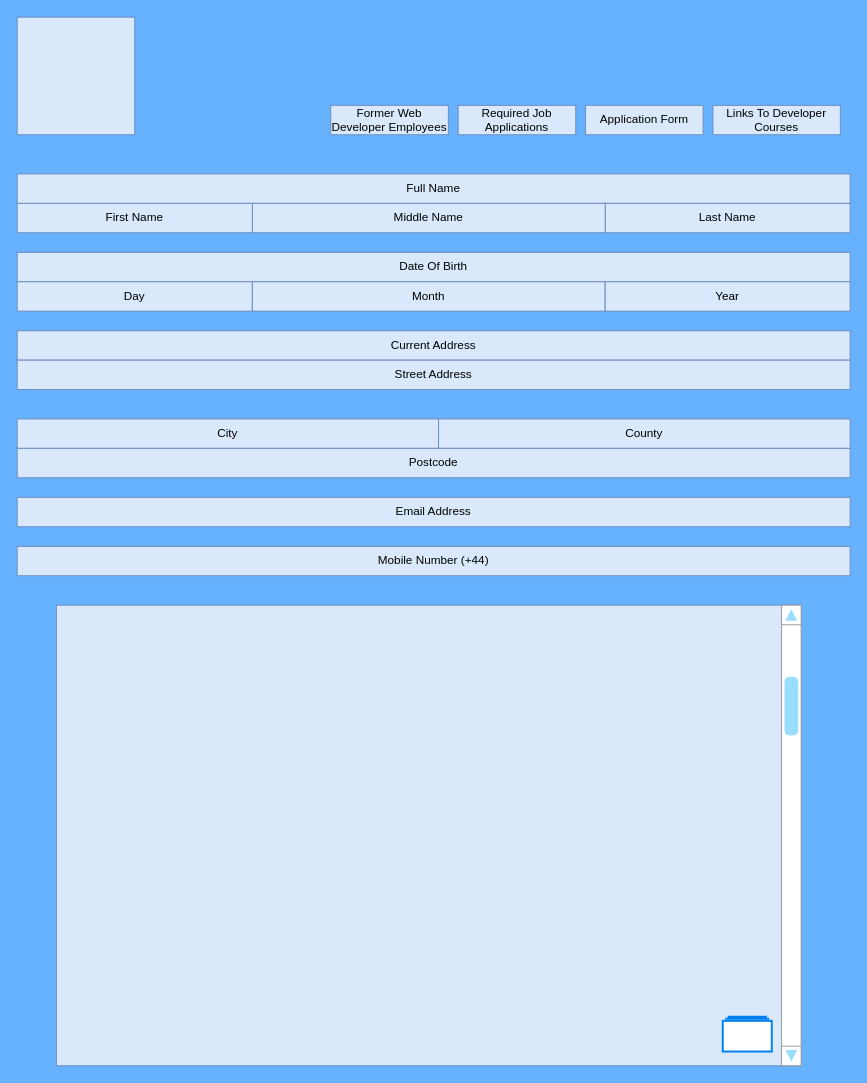
Some shapes in this 867 by 1083 pixel diagram are drawn without their labels. The shapes that lost their labels are listed below. From the top down, each one's box as (x1, y1, x2, y2) in pixels, then its label:
(16, 16, 135, 135): Logo
(55, 604, 801, 1066): Upload your CV
